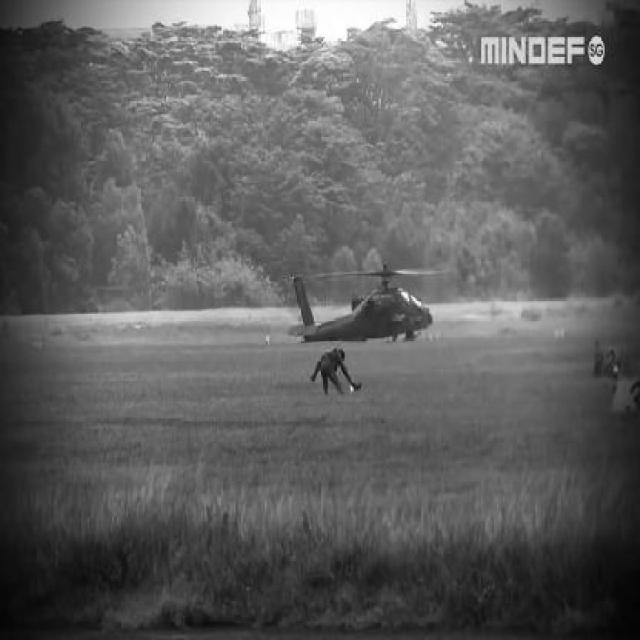Helicopter: (287, 264, 450, 344)
